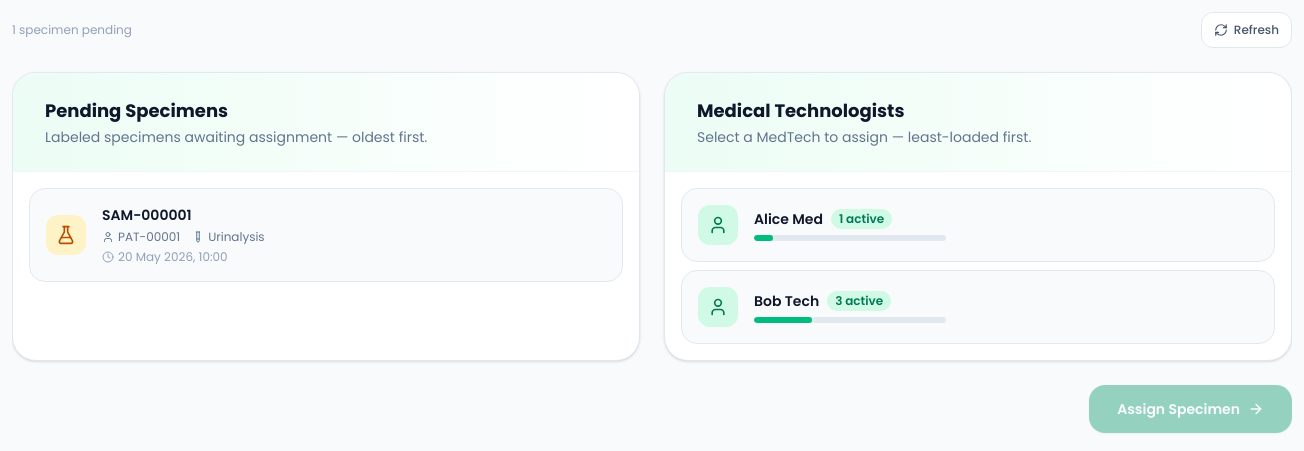
Test: QueueAssignmentDashboard › enables Assign button when both specimen and MedTech are selected
What coordinates should you click on to do the following:
click the text "SAM-000001"
I would click on:
 (147, 215)
Its box is [102,205,192,225].
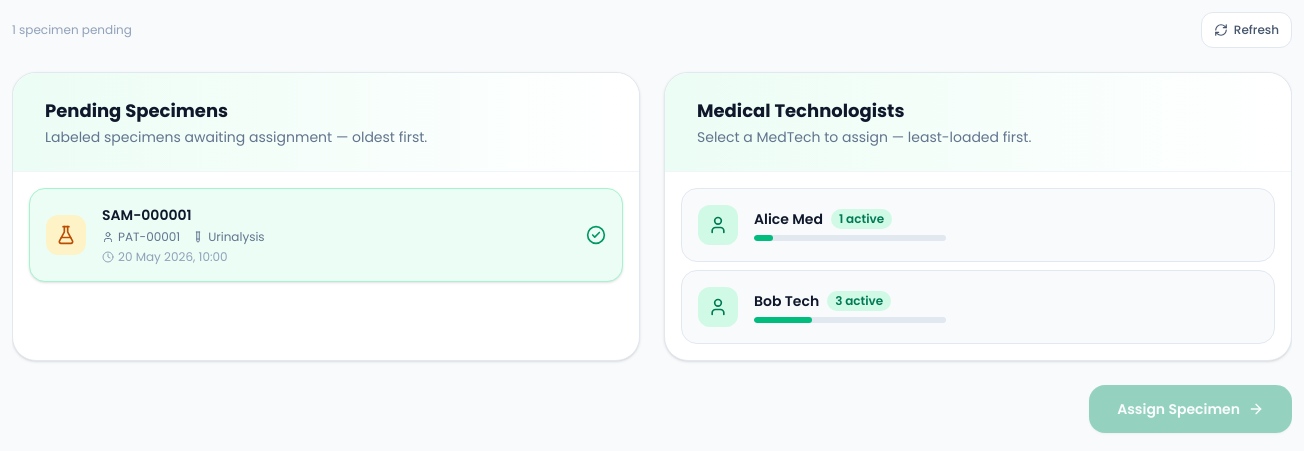
What coordinates should you click on to do the following:
click the text "Alice Med"
I would click on:
 (788, 219)
Its box is [754,209,823,229].
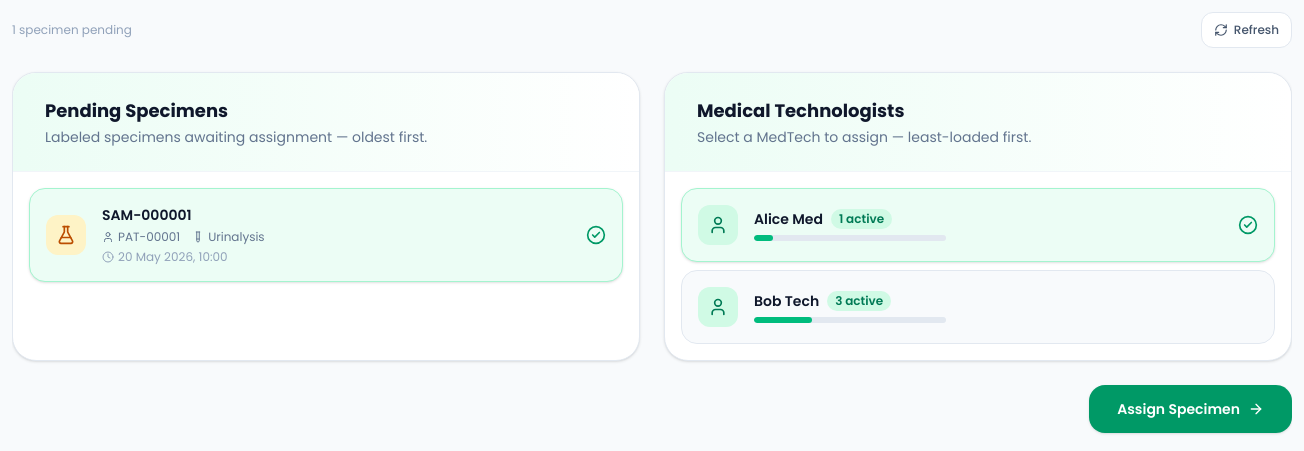
Now the button "Assign Specimen" is enabled, box [1089,385,1292,433]
